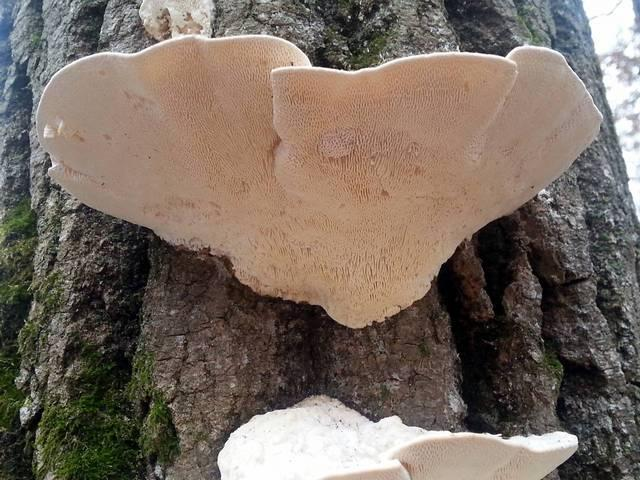Non-edible Mushroom: (34, 32, 604, 329), (213, 386, 584, 480)
